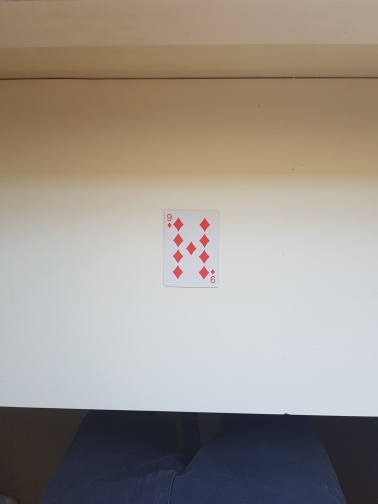nine: (161, 209, 220, 289)
